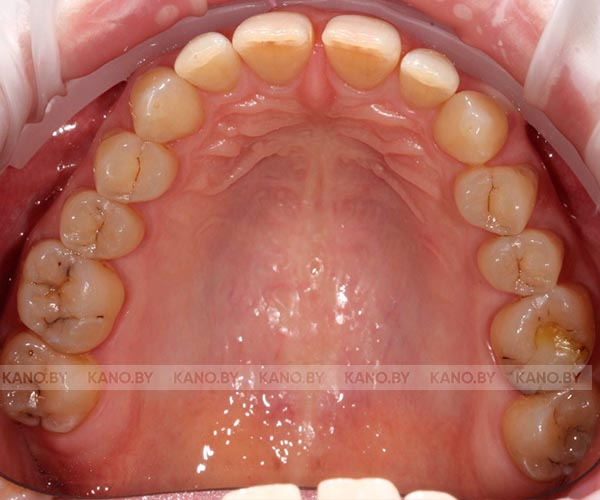UL1BC_decay: (447, 166, 534, 233)
UL1M_decay: (488, 282, 593, 357)
UL2BC_decay: (478, 233, 563, 294)
ULCI_healthy: (324, 14, 399, 97)
ULC_healthy: (429, 100, 505, 165)
ULLI_healthy: (394, 55, 457, 107)
UR1BC_decay: (90, 143, 183, 208)
UR1M_decay: (20, 242, 130, 351)
UR2BC_decay: (57, 198, 150, 259)
URCI_healthy: (235, 13, 316, 92)
URC_healthy: (130, 68, 206, 143)
URLI_healthy: (173, 30, 243, 97)
